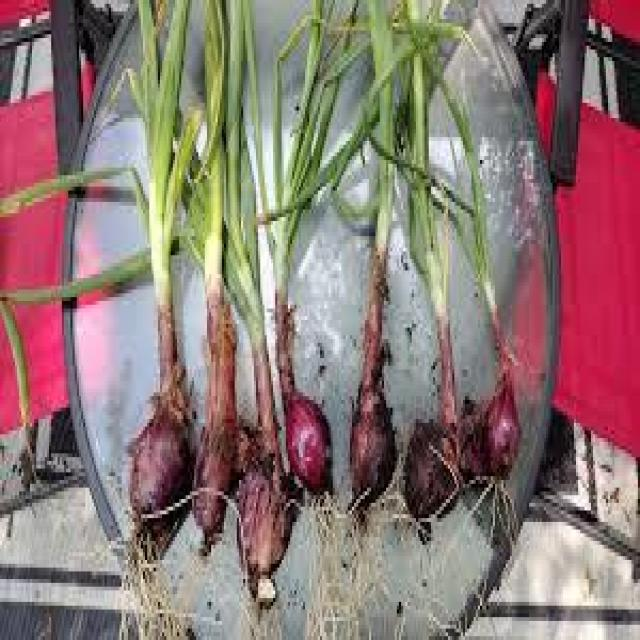Onion: (0, 0, 207, 385), (365, 48, 510, 348), (92, 0, 228, 305), (244, 2, 362, 348), (154, 2, 264, 345), (326, 0, 401, 305), (398, 0, 457, 385), (235, 350, 290, 576), (187, 305, 238, 545), (126, 383, 194, 550), (349, 307, 396, 516), (279, 348, 333, 494), (404, 383, 458, 524), (462, 351, 521, 476)
